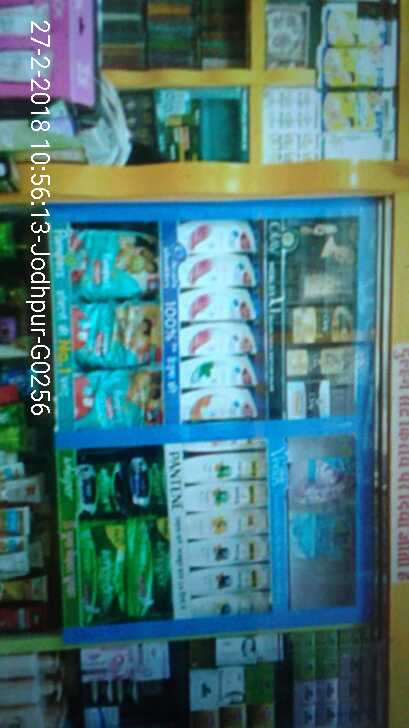venus: (288, 507, 359, 566), (288, 461, 358, 507)
